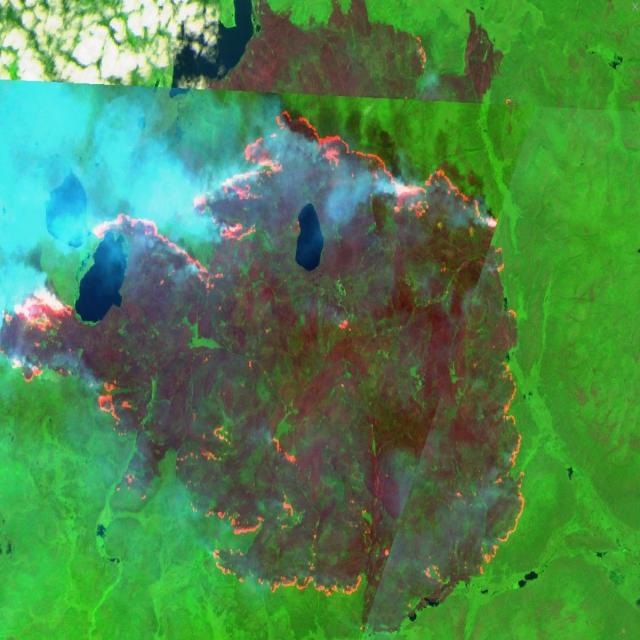fire: (0, 103, 529, 640)
